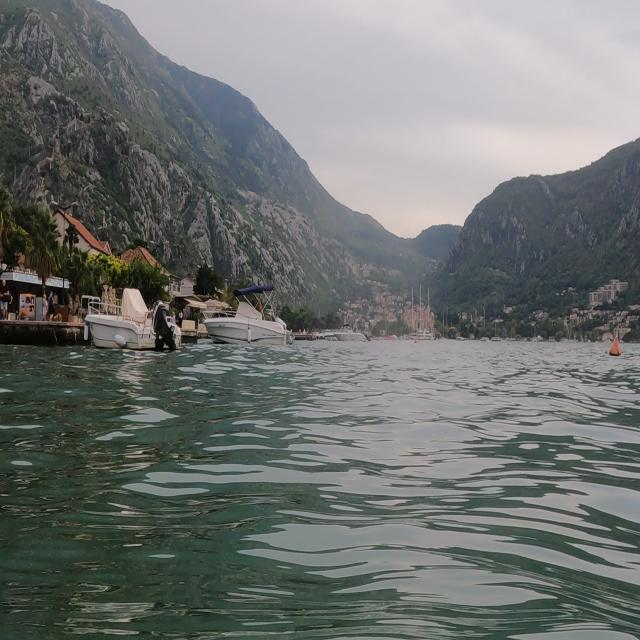boat: (81, 274, 188, 359), (199, 277, 300, 360), (406, 276, 441, 348), (319, 314, 376, 349)
buoy: (607, 326, 628, 366)
